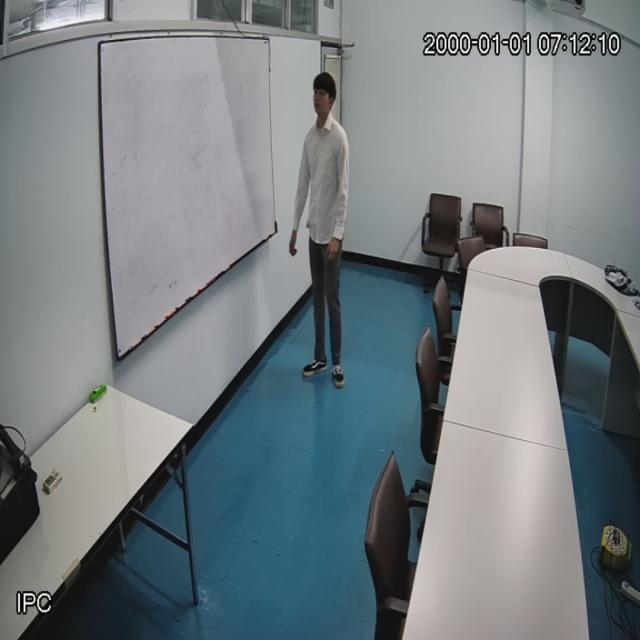normal: (289, 73, 350, 381)
